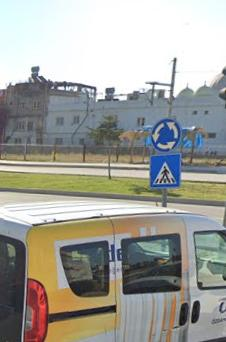crossroads: (152, 118, 182, 150)
